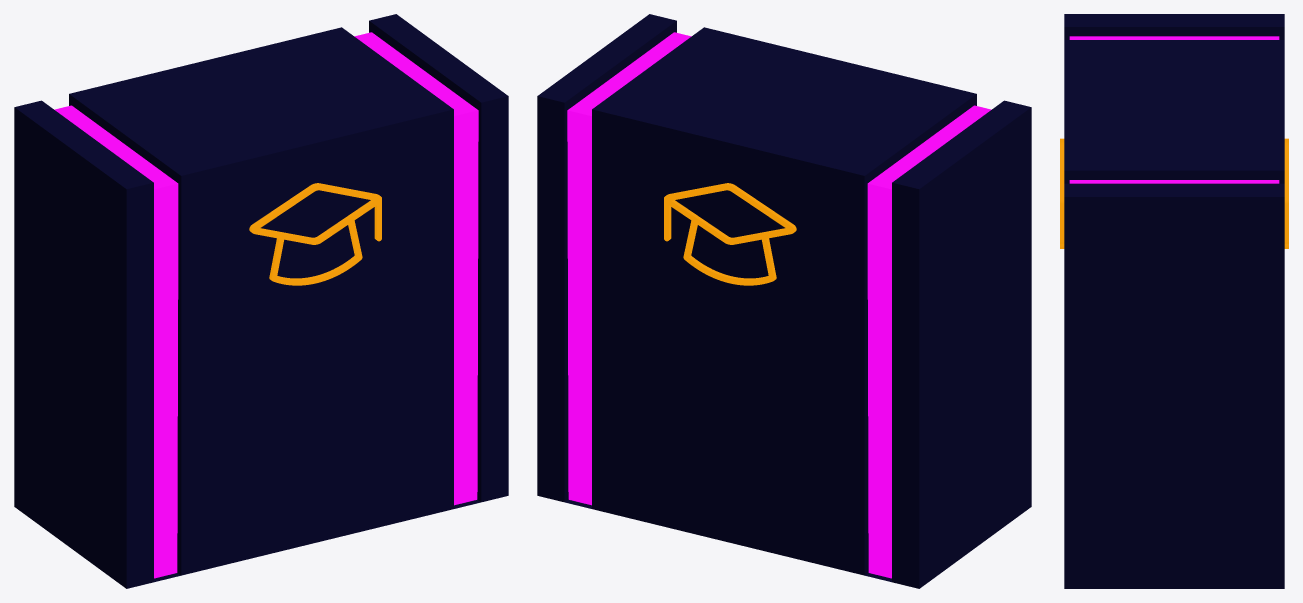
The model's file is education.glb.
3 renders of one model, left to right at view 1: azimuth 30°, elevation 25°; view 2: azimuth 150°, elevation 25°; view 3: azimuth 270°, elevation 25°, orthographic.
Parts seen in each view (by area): view 1: Education Building, Education Logo; view 2: Education Building, Education Logo; view 3: Education Building, Education Logo.
Boxes of the visible parts, <box> form: Education Building: <box>14,14,508,588</box>; Education Logo: <box>249,183,381,285</box>; Education Building: <box>537,14,1031,588</box>; Education Logo: <box>664,183,796,285</box>; Education Building: <box>1064,14,1284,588</box>; Education Logo: <box>1060,138,1288,248</box>.
Size of the model in its own units: 0.3598 by 0.3598 by 0.1903.
